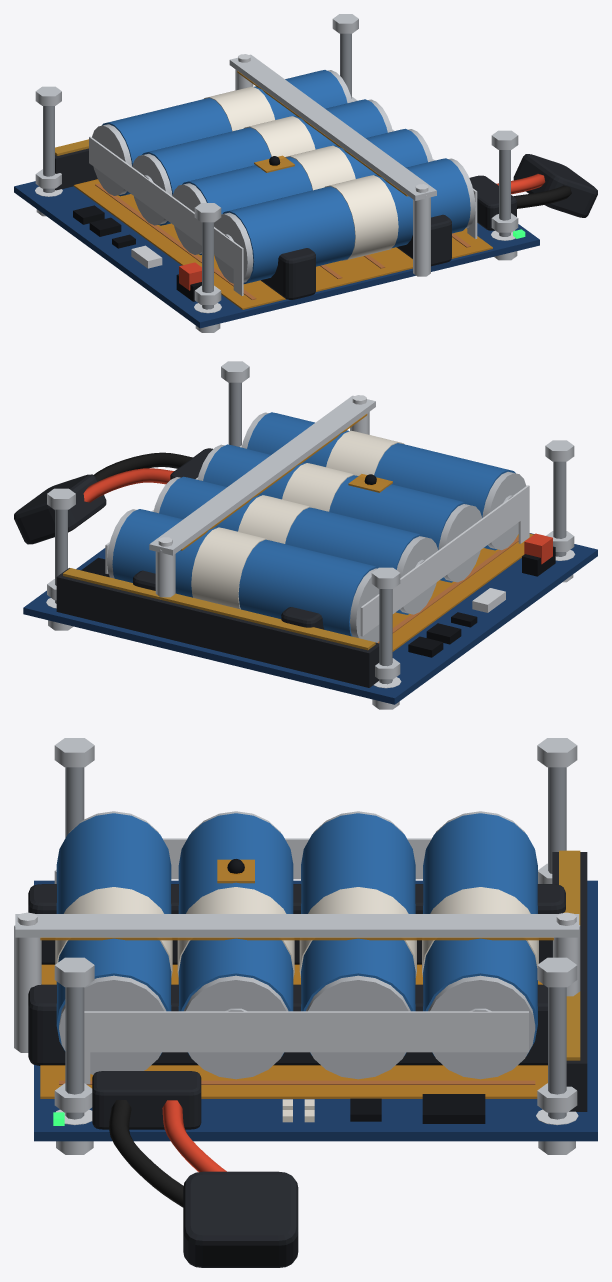
Rendered from battery-medium.glb.
The picture shows the model from 3 angles, top to bottom: view 1: azimuth 30°, elevation 25°; view 2: azimuth 150°, elevation 25°; view 3: azimuth 270°, elevation 25°; orthographic projection. The views are drawn at different scales.
Visible parts, largest first — view 1: battery-medium-cells-1-cells, battery-medium-deck-1-pcb, battery-medium-cells-1-cell-bands, battery-medium-cells-1-heater, battery-medium-cells-1-cell-caps, battery-medium-strap-1, battery-medium-cells-1-nickel, battery-medium-rods, battery-medium-cells-1-cradle (×2), battery-medium-plug, battery-medium-nuts-top, battery-medium-strap-post (+10 smaller); view 2: battery-medium-cells-1-cells, battery-medium-deck-1-header, battery-medium-deck-1-pcb, battery-medium-cells-1-cell-bands, battery-medium-cells-1-cell-caps, battery-medium-strap-1, battery-medium-cells-1-nickel, battery-medium-rods, battery-medium-cells-1-heater, battery-medium-deck-1-header-pins, battery-medium-plug, battery-medium-nuts-top (+12 smaller); view 3: battery-medium-cells-1-cells, battery-medium-cells-1-nickel (×2), battery-medium-cells-1-cell-caps, battery-medium-deck-1-pcb, battery-medium-strap-1, battery-medium-plug, battery-medium-cells-1-heater, battery-medium-cells-1-cradle (×2), battery-medium-cells-1-cell-bands, battery-medium-rods, battery-medium-power-connector, battery-medium-nuts-top (+11 smaller).
Boxes of the visible parts, bbox=[...] form: battery-medium-cells-1-cells: bbox=[102, 70, 470, 283]; battery-medium-deck-1-pcb: bbox=[14, 181, 539, 328]; battery-medium-cells-1-cell-bands: bbox=[204, 86, 398, 260]; battery-medium-cells-1-heater: bbox=[73, 179, 492, 309]; battery-medium-cells-1-cell-caps: bbox=[92, 70, 475, 283]; battery-medium-strap-1: bbox=[229, 54, 436, 200]; battery-medium-cells-1-nickel: bbox=[89, 136, 243, 268]; battery-medium-rods: bbox=[43, 33, 510, 309]; battery-medium-cells-1-cradle (×2): bbox=[261, 214, 451, 299]; battery-medium-plug: bbox=[513, 154, 597, 217]; battery-medium-nuts-top: bbox=[35, 14, 518, 222]; battery-medium-strap-post: bbox=[413, 195, 430, 276]; battery-medium-cells-1-cells: bbox=[112, 412, 515, 636]; battery-medium-deck-1-header: bbox=[56, 568, 379, 687]; battery-medium-deck-1-pcb: bbox=[23, 533, 597, 704]; battery-medium-cells-1-cell-bands: bbox=[191, 430, 404, 609]; battery-medium-cells-1-cell-caps: bbox=[107, 412, 526, 642]; battery-medium-strap-1: bbox=[149, 395, 375, 555]; battery-medium-cells-1-nickel: bbox=[360, 485, 529, 636]; battery-medium-rods: bbox=[55, 382, 566, 684]; battery-medium-cells-1-heater: bbox=[392, 533, 533, 651]; battery-medium-deck-1-header-pins: bbox=[63, 568, 375, 650]; battery-medium-plug: bbox=[14, 474, 106, 544]; battery-medium-nuts-top: bbox=[47, 361, 574, 588]; battery-medium-cells-1-cells: bbox=[56, 813, 537, 1056]; battery-medium-cells-1-nickel (×2): bbox=[84, 838, 528, 1052]; battery-medium-cells-1-cell-caps: bbox=[59, 811, 535, 1079]; battery-medium-deck-1-pcb: bbox=[34, 880, 597, 1141]; battery-medium-strap-1: bbox=[15, 914, 579, 937]; battery-medium-plug: bbox=[183, 1171, 298, 1267]; battery-medium-cells-1-heater: bbox=[40, 964, 547, 1098]; battery-medium-cells-1-cradle (×2): bbox=[28, 884, 565, 1065]; battery-medium-cells-1-cell-bands: bbox=[55, 887, 538, 978]; battery-medium-rods: bbox=[65, 767, 566, 1119]; battery-medium-power-connector: bbox=[92, 1071, 201, 1129]; battery-medium-nuts-top: bbox=[54, 738, 577, 987].
Bounding box in the file's own units: 0.1263 × 0.0376 × 0.0932.
